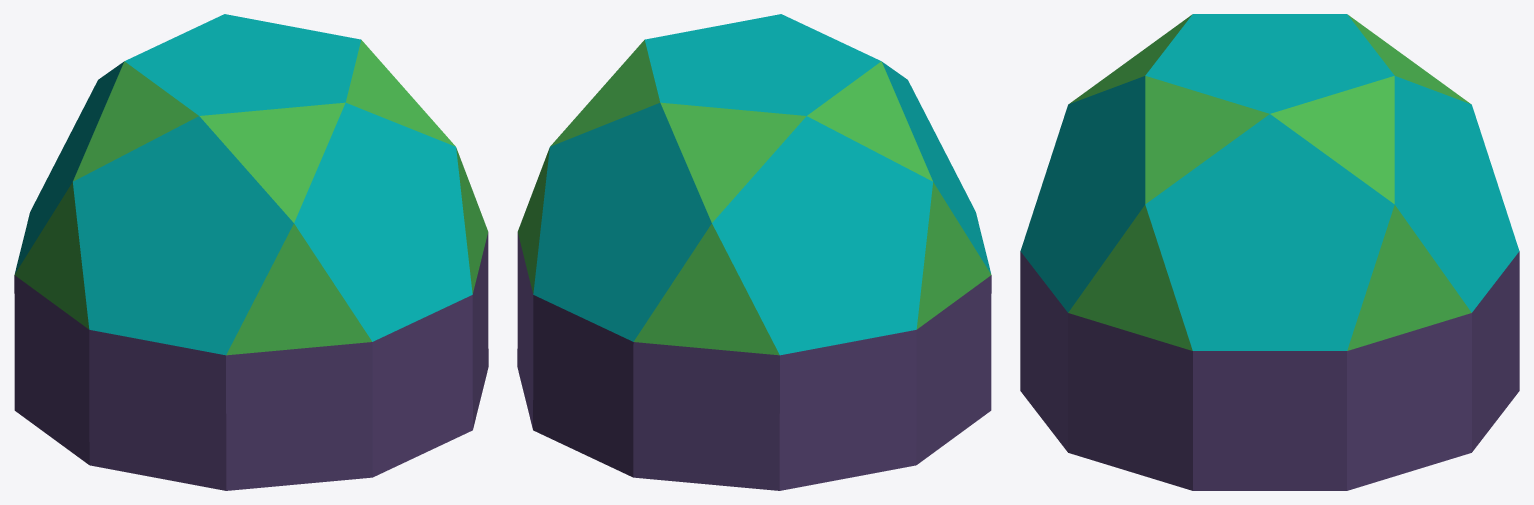
Rendered from J21.RotondaPentagonalElongada.gltf.
The picture shows the model from 3 angles, left to right: view 1: azimuth 30°, elevation 25°; view 2: azimuth 150°, elevation 25°; view 3: azimuth 270°, elevation 25°; orthographic projection. The views are drawn at different scales.
Visible parts, largest first — view 1: J21.RotondaPentagonalElongada; view 2: J21.RotondaPentagonalElongada; view 3: J21.RotondaPentagonalElongada.
Boxes of the visible parts, bbox=[...] form: J21.RotondaPentagonalElongada: bbox=[14, 14, 488, 490]; J21.RotondaPentagonalElongada: bbox=[517, 14, 991, 490]; J21.RotondaPentagonalElongada: bbox=[1020, 14, 1519, 490].
Size of the model in its own units: 14.95 by 11.55 by 15.71.
